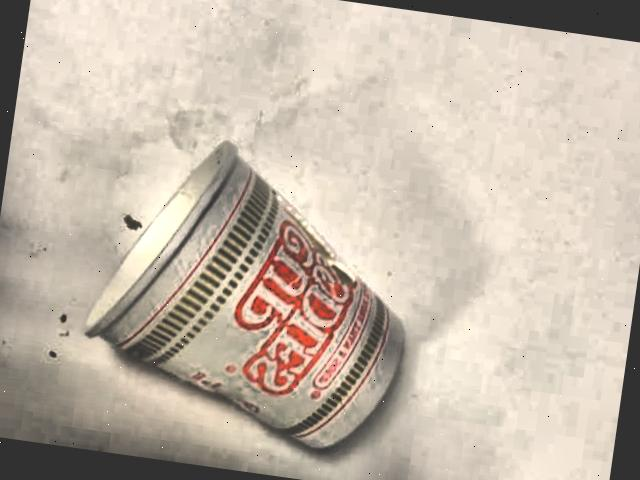Almennt: (61, 113, 439, 470)
